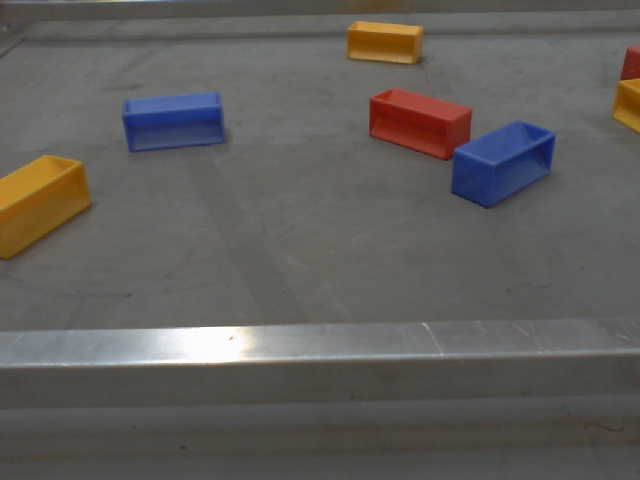BlueSample: (445, 117, 558, 211), (118, 89, 230, 155)
RedSample: (364, 82, 475, 159), (617, 42, 640, 83)
YellowSample: (1, 152, 97, 265), (341, 19, 425, 70), (611, 76, 640, 137)
